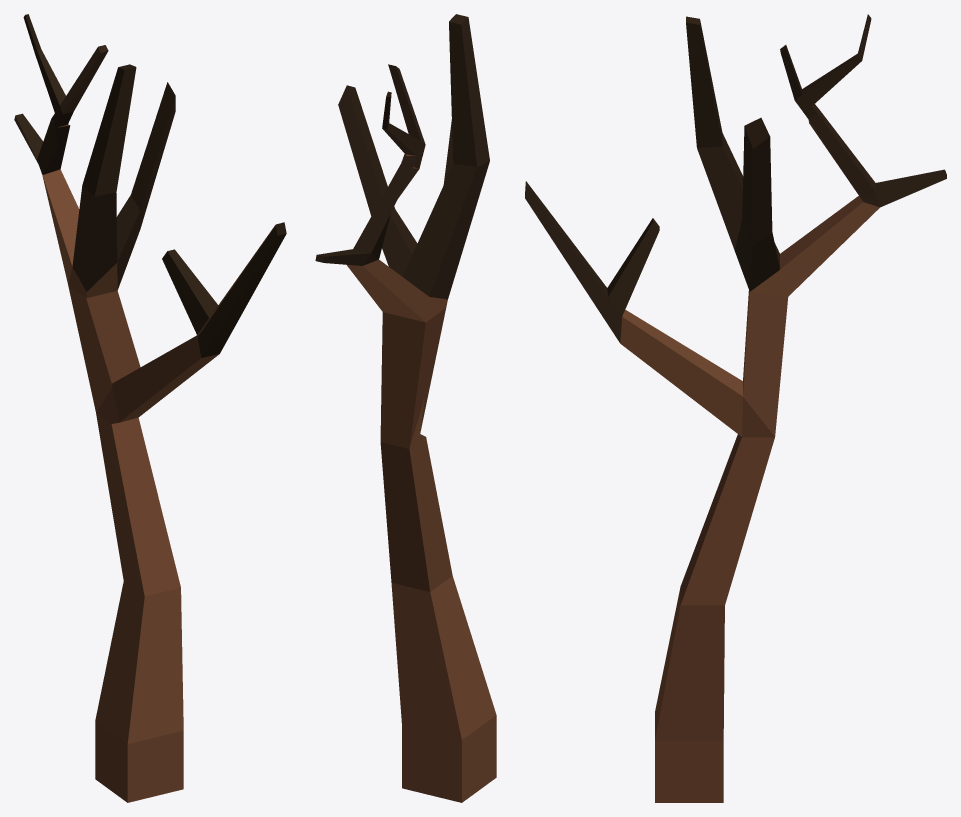
The model's file is T_burnttree2.fbx.
3 views of the same model, side by side, from view 1: azimuth 30°, elevation 25°; view 2: azimuth 150°, elevation 25°; view 3: azimuth 270°, elevation 25° (orthographic). The views are drawn at different scales.
Parts seen in each view (by area): view 1: Cube; view 2: Cube; view 3: Cube.
Part boxes in pixels (x1,y1,x2,y2): Cube: [14, 14, 286, 802]; Cube: [315, 14, 496, 802]; Cube: [525, 14, 946, 802].
Bounding box in the file's own units: 143 × 884 × 443.
